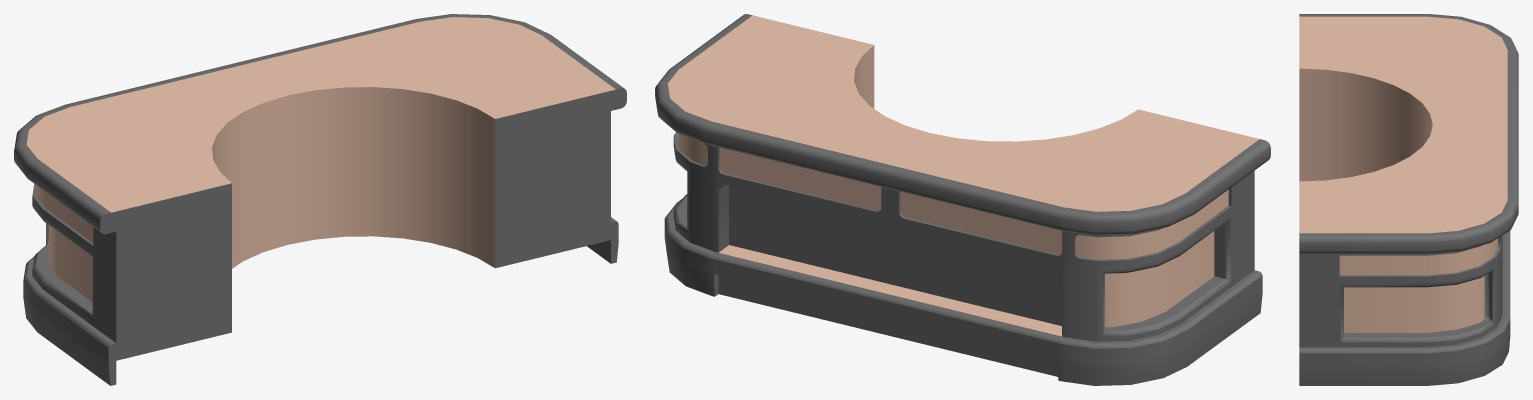
File: Garage-desk.fbx
3 renders of one model, left to right at view 1: azimuth 30°, elevation 25°; view 2: azimuth 150°, elevation 25°; view 3: azimuth 270°, elevation 25°, orthographic. The views are drawn at different scales.
Visible parts, largest first — view 1: Base Cabinet-Wood, Base Cabinet; view 2: Base Cabinet, Base Cabinet-Wood; view 3: Base Cabinet-Wood, Base Cabinet.
Part boxes in pixels (left/top/right/bottom): Base Cabinet-Wood: left=26, top=17, right=615, bottom=301; Base Cabinet: left=14, top=14, right=626, bottom=385; Base Cabinet: left=655, top=14, right=1270, bottom=385; Base Cabinet-Wood: left=667, top=15, right=1259, bottom=336; Base Cabinet-Wood: left=1299, top=16, right=1507, bottom=332; Base Cabinet: left=1299, top=14, right=1518, bottom=385.
Size of the model in its own units: 639 by 262 by 201.
